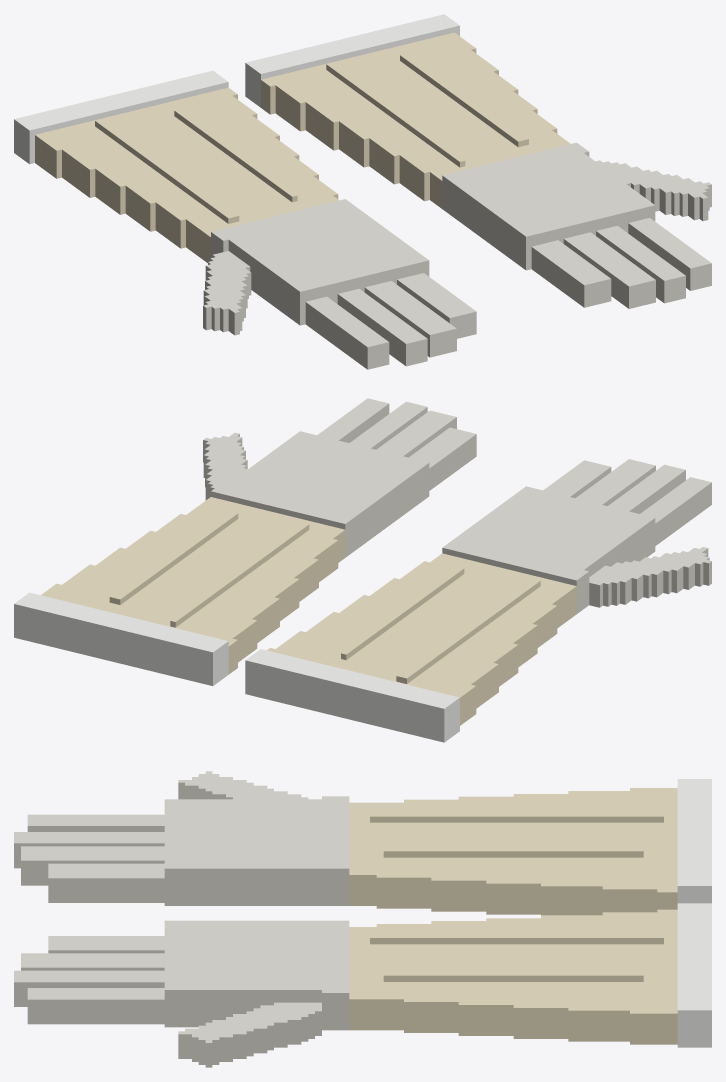
Rendered from beekeeping_gloves.glb.
3 views of the same model, one above another, from view 1: azimuth 30°, elevation 25°; view 2: azimuth 150°, elevation 25°; view 3: azimuth 270°, elevation 25° (orthographic). The views are drawn at different scales.
Visible parts, largest first — view 1: beekeeping_gloves:compound; view 2: beekeeping_gloves:compound; view 3: beekeeping_gloves:compound.
Part boxes in pixels (box(x1,y1,x2,y2)): beekeeping_gloves:compound: box(14, 14, 711, 369); beekeeping_gloves:compound: box(14, 398, 711, 742); beekeeping_gloves:compound: box(14, 771, 711, 1067).
Size of the model in its own units: 0.376 by 0.024 by 0.408.
